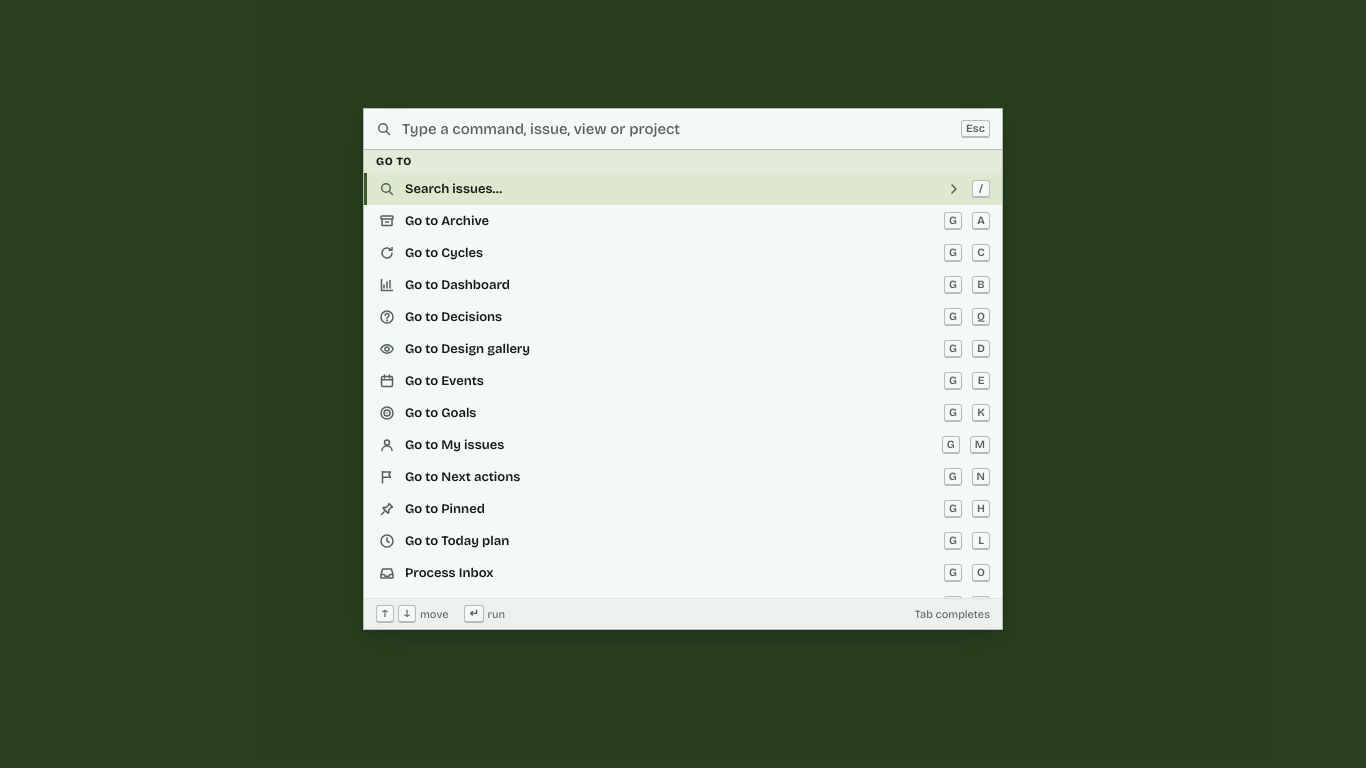
Test case: CommandPalette › recents_list_the_last_issue_and_command_and_survive_a_reload
Type "quokka" into the dropdown with placeholder "Type a command, issue, view or project". click: (677, 128)
box: [400, 118, 953, 138]
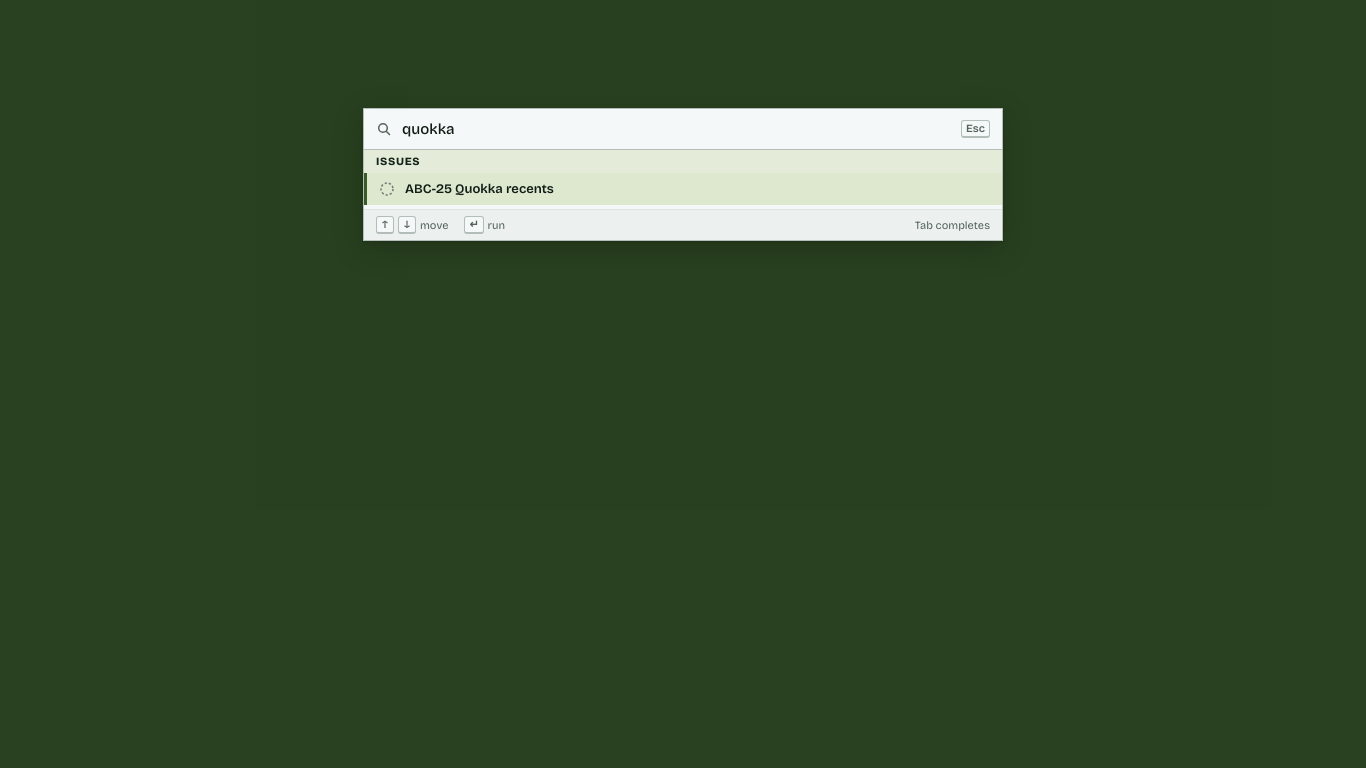
Press Enter in the dropdown named "Search commands, issues, views and projects", box [400, 118, 953, 138]
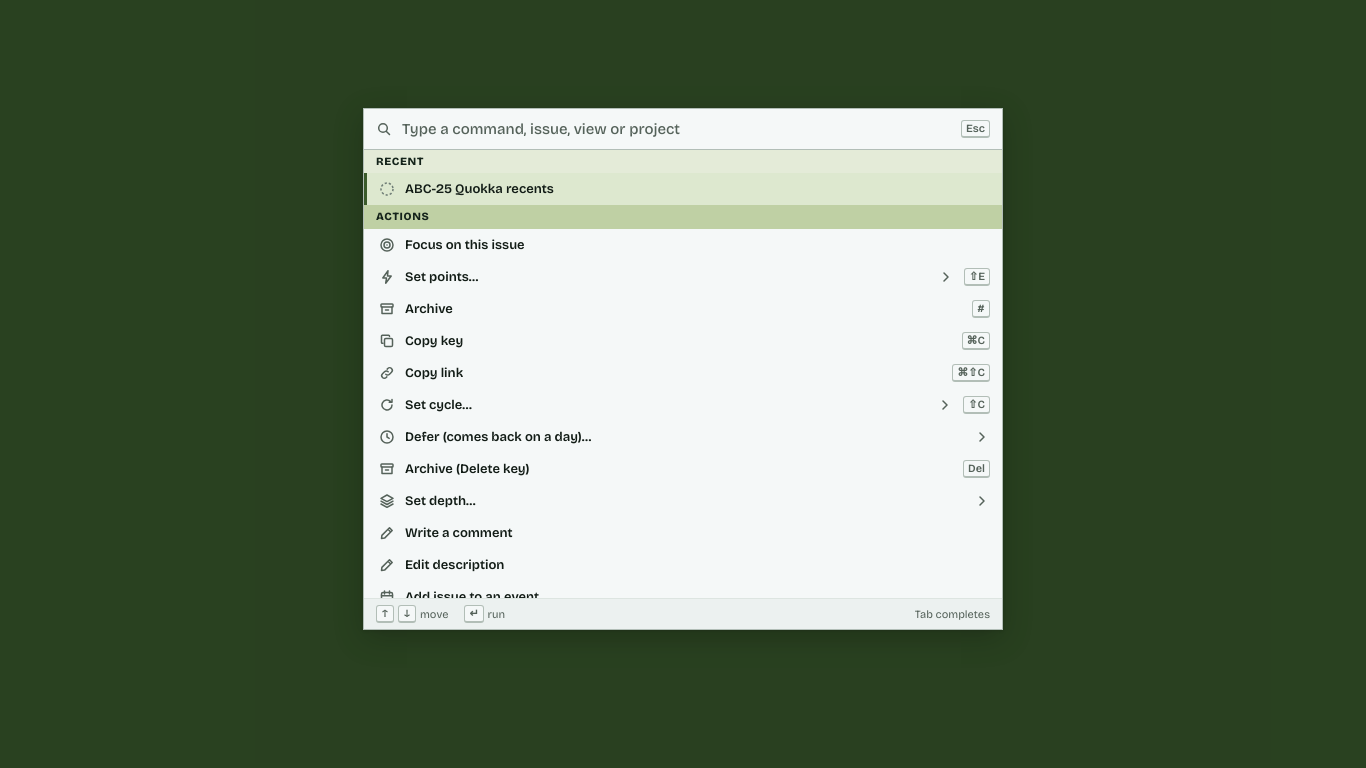
Type "zebra plain" into the dropdown with placeholder "Type a command, issue, view or project". click: (677, 128)
box: [400, 118, 953, 138]
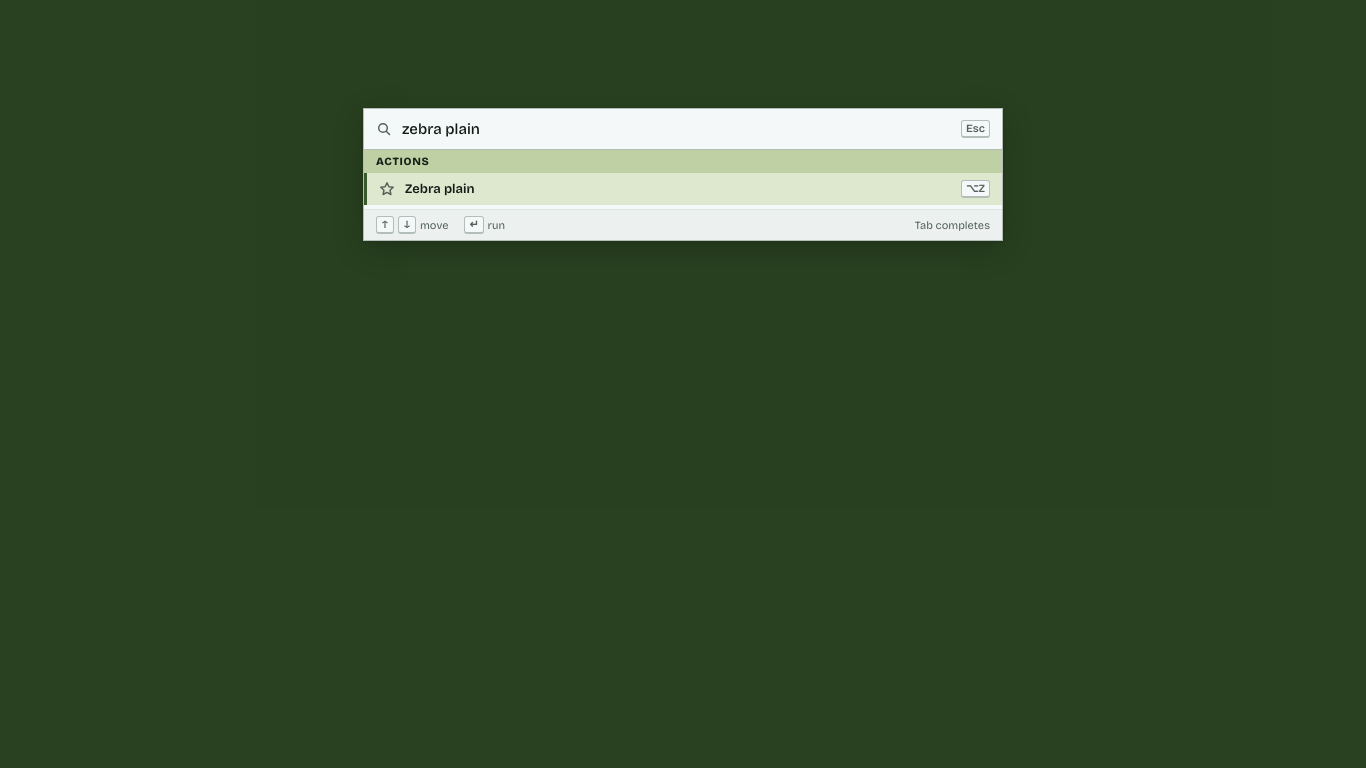
Press Enter in the dropdown named "Search commands, issues, views and projects", box [400, 118, 953, 138]
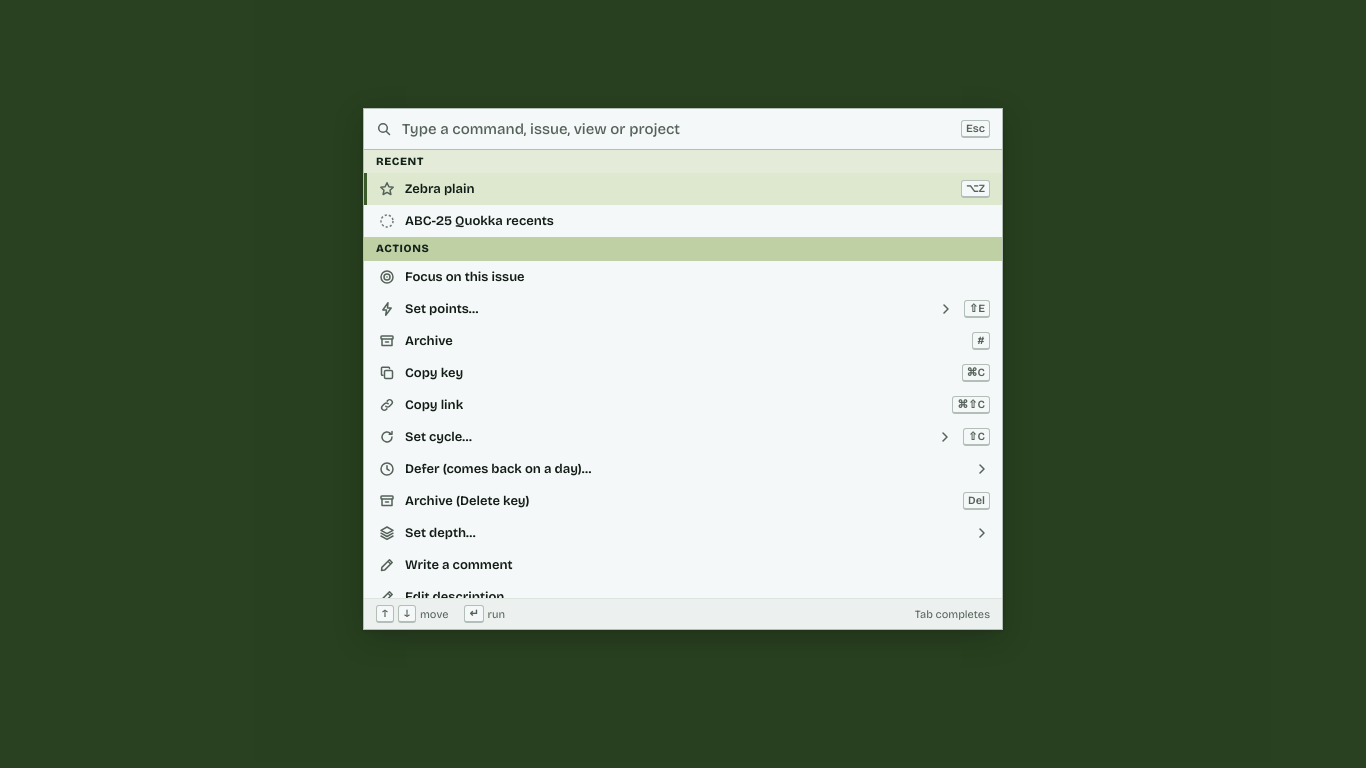
Check: the option "Zebra plain ⌥Z" is shown, box [364, 173, 1002, 205]
Check: the element named "Recent" is shown, box [364, 150, 1002, 237]
Check: the element named "Recent" shows "ABC-25", box [405, 213, 554, 229]
